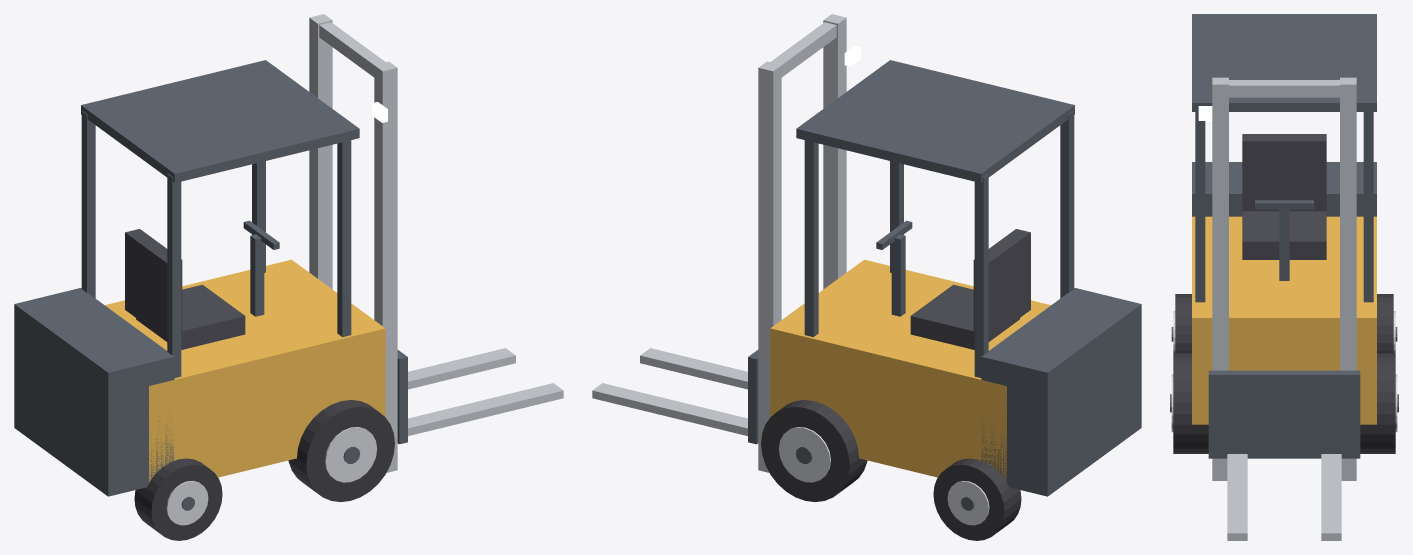
The model's file is forklift.glb.
3 renders of one model, left to right at view 1: azimuth 30°, elevation 25°; view 2: azimuth 150°, elevation 25°; view 3: azimuth 270°, elevation 25°, orthographic.
Parts seen in each view (by area): view 1: forklift; view 2: forklift; view 3: forklift.
Boxes of the visible parts, box(x1,y1,x2,y2) form: forklift: box(14, 14, 563, 540); forklift: box(592, 14, 1141, 540); forklift: box(1170, 14, 1398, 540).
Size of the model in its own units: 3.2 by 2.6 by 1.36.
